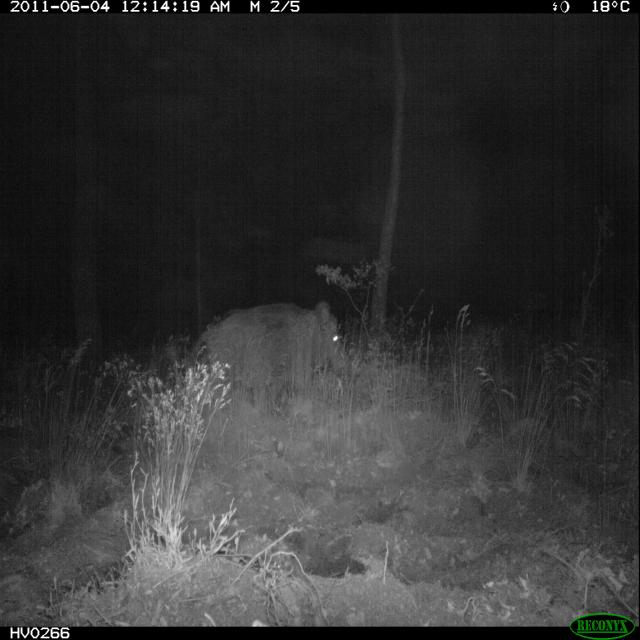boar: (172, 288, 361, 430)
